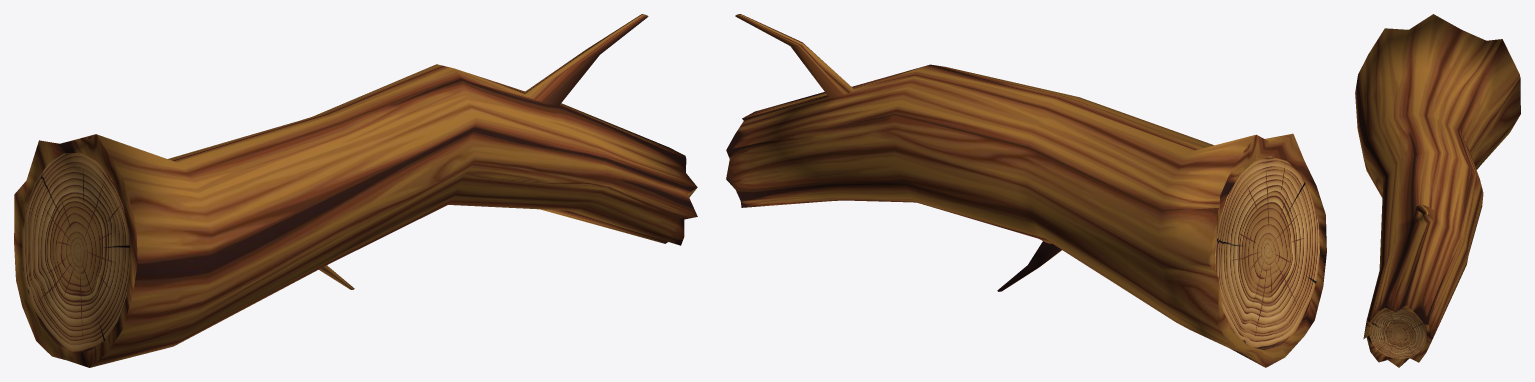
The model's file is TroncoB.fbx.
3 views of the same model, side by side, from view 1: azimuth 30°, elevation 25°; view 2: azimuth 150°, elevation 25°; view 3: azimuth 270°, elevation 25° (orthographic). The views are drawn at different scales.
Visible parts, largest first — view 1: Cylinder; view 2: Cylinder; view 3: Cylinder.
Part boxes in pixels (bbox=[...]): Cylinder: bbox=[14, 14, 697, 367]; Cylinder: bbox=[726, 14, 1326, 367]; Cylinder: bbox=[1355, 14, 1520, 367].
Size of the model in its own units: 330 by 118 by 109.
